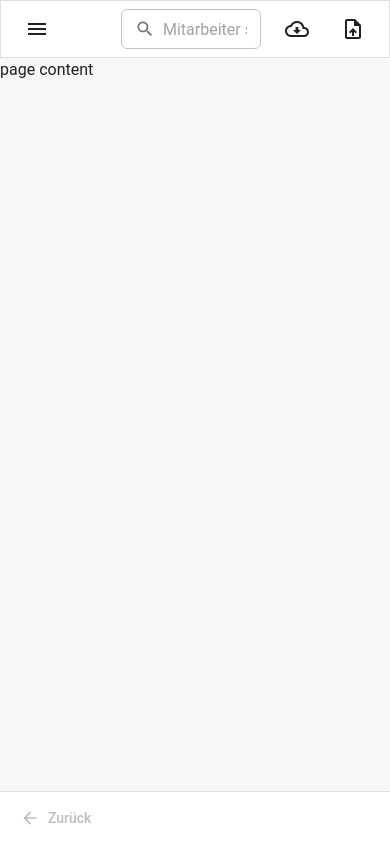
Test: AppShell › opens mobile navigation from the topbar menu button
Click the button named "Navigation öffnen": (37, 29) top-left (17, 9), bottom-right (57, 49)
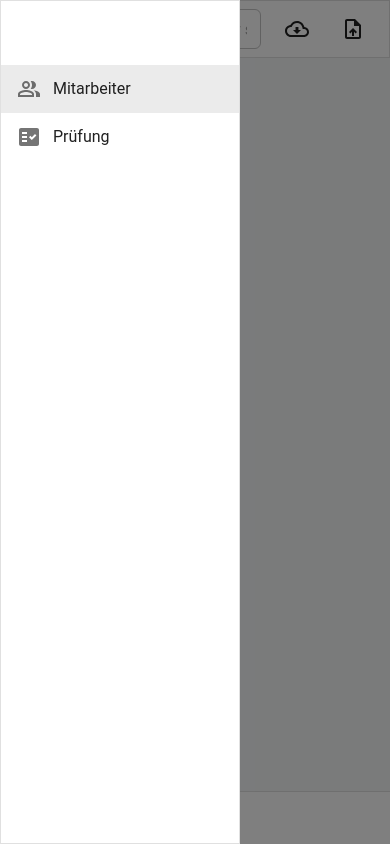
Expected: the link "Mitarbeiter" is shown, top-left (1, 65), bottom-right (239, 113)
